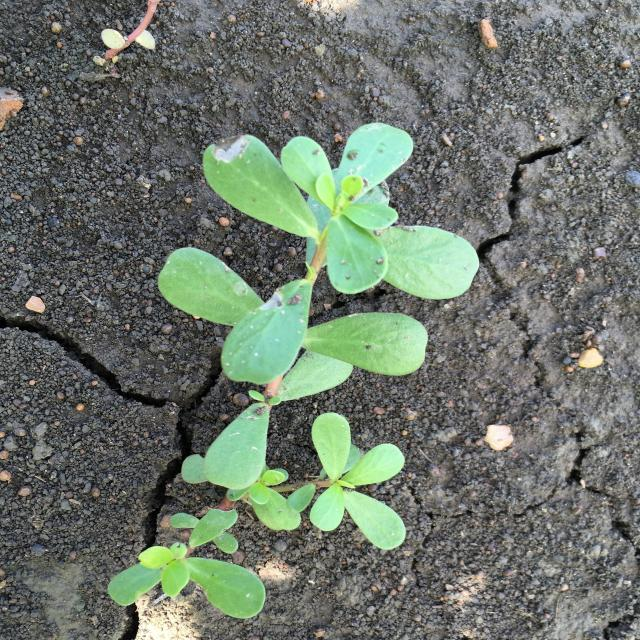Purslane: (107, 122, 480, 619)
